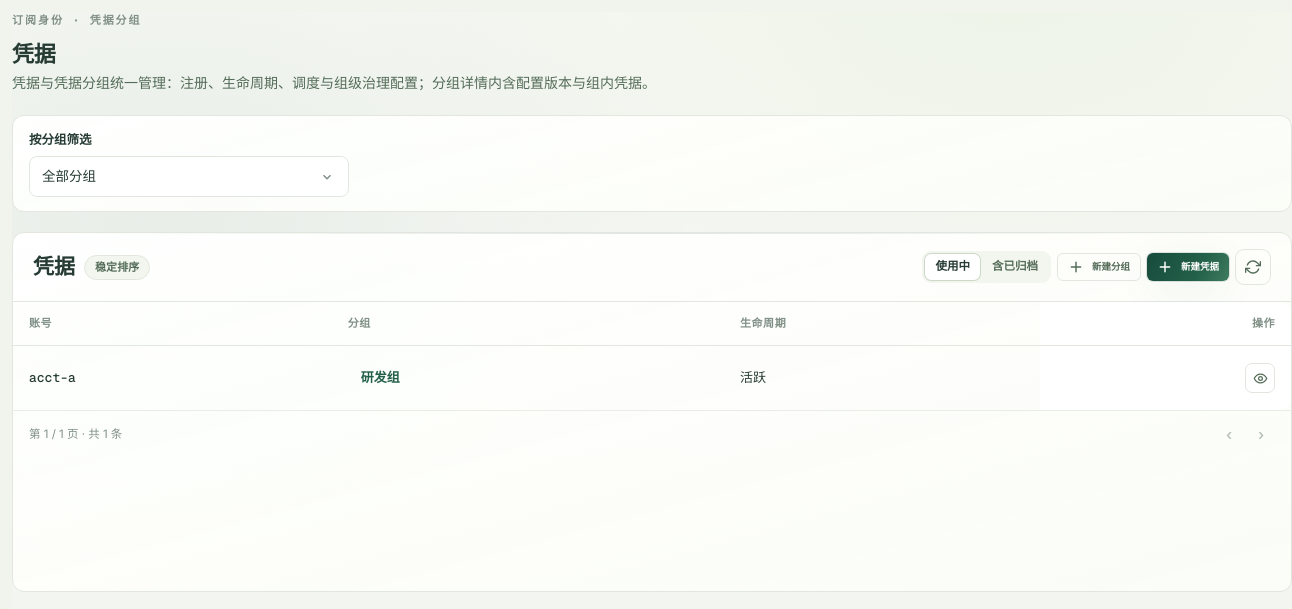
Test case: credentials page (merged credential groups) › filters credentials through the group credentials endpoint when a group is selected
The image size is (1292, 609).
Click the dropdown named "按分组筛选".
click(69, 176)  # box 29,156 -> 349,197
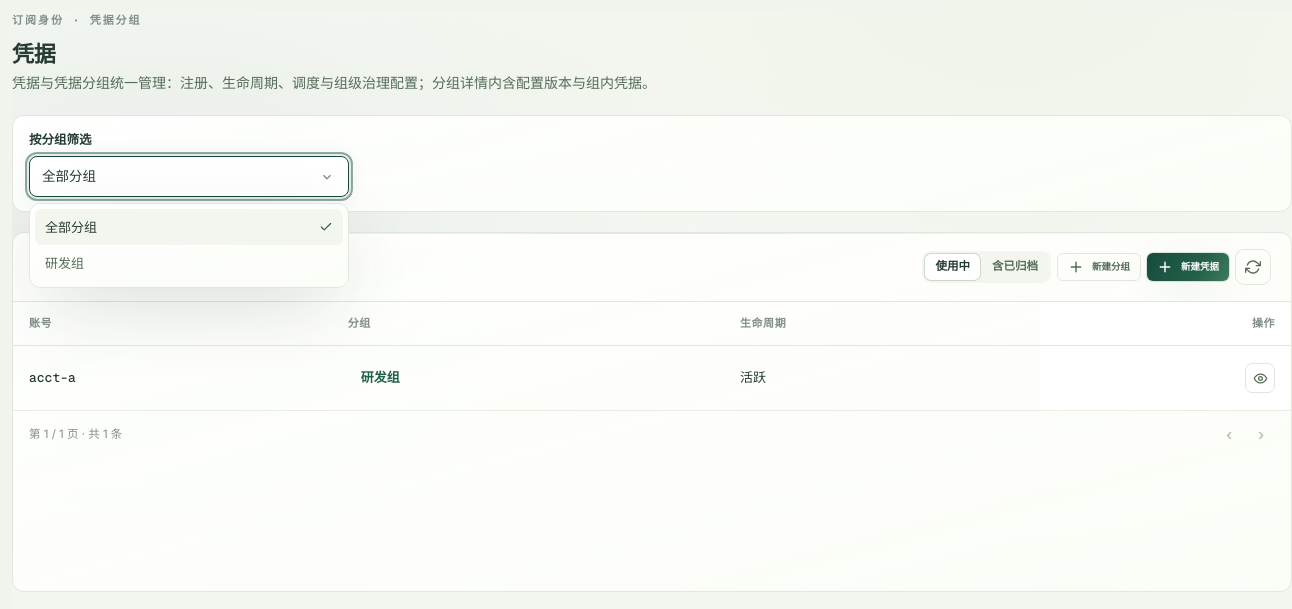
Click the option "研发组".
click(65, 263)  # box 35,245 -> 343,282
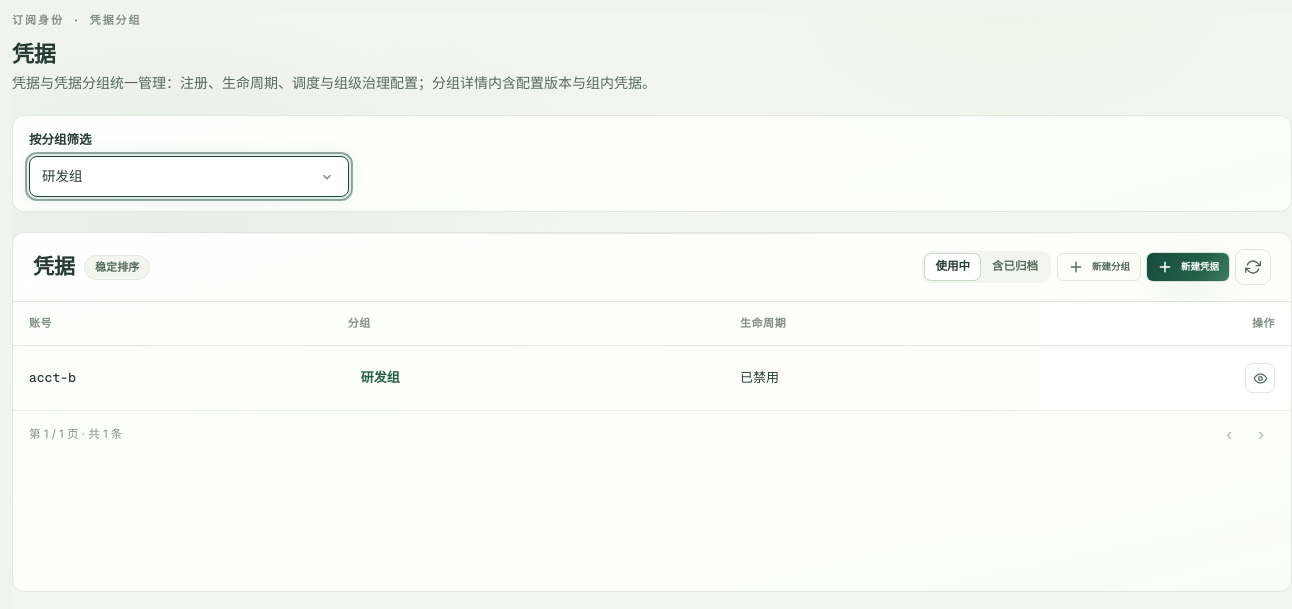
Expected: the text "acct-b" is shown, 13,346 -> 332,410
